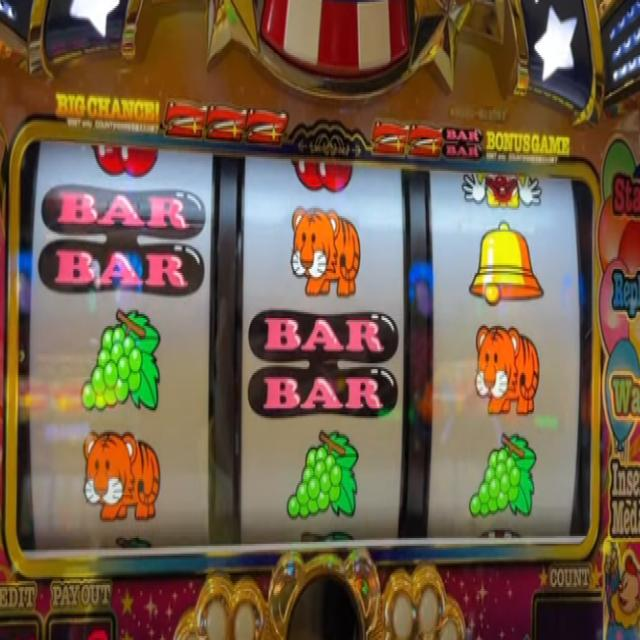bar: (39, 185, 206, 300), (248, 311, 399, 424), (444, 122, 482, 162)
bell: (468, 220, 544, 308)
cherry: (90, 144, 160, 179), (289, 158, 354, 191)
clown: (20, 137, 596, 559), (460, 166, 543, 214)
grape: (80, 308, 162, 416), (284, 429, 361, 524), (468, 434, 538, 518)
tiger: (82, 430, 161, 522), (290, 204, 361, 298), (474, 323, 542, 416)
z: (163, 103, 207, 139), (245, 109, 288, 145), (372, 121, 409, 159), (209, 101, 245, 139), (410, 125, 442, 159)
